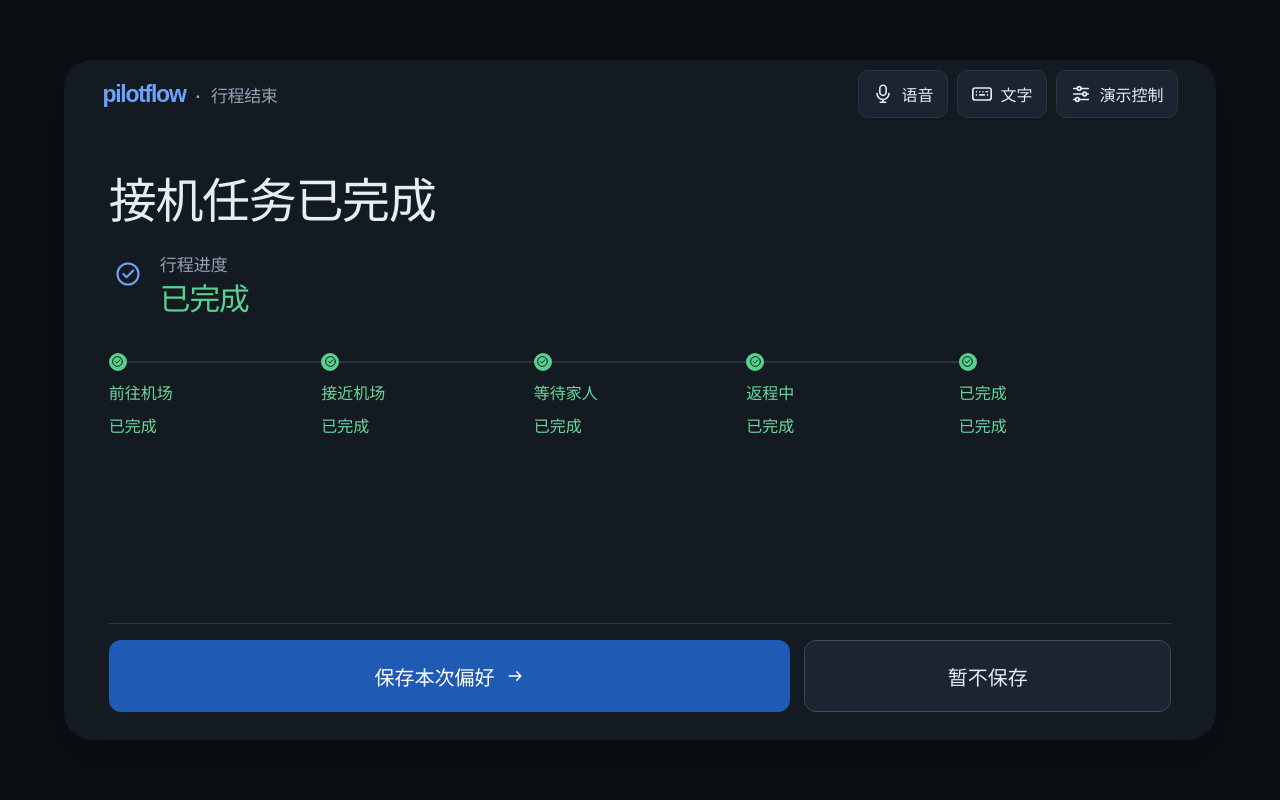
Test: demo integration › offers declining the completion confirmation and clears it too
The image size is (1280, 800).
Step 1. Click the button "暂不保存" → (988,676), box [804,640,1171,712]
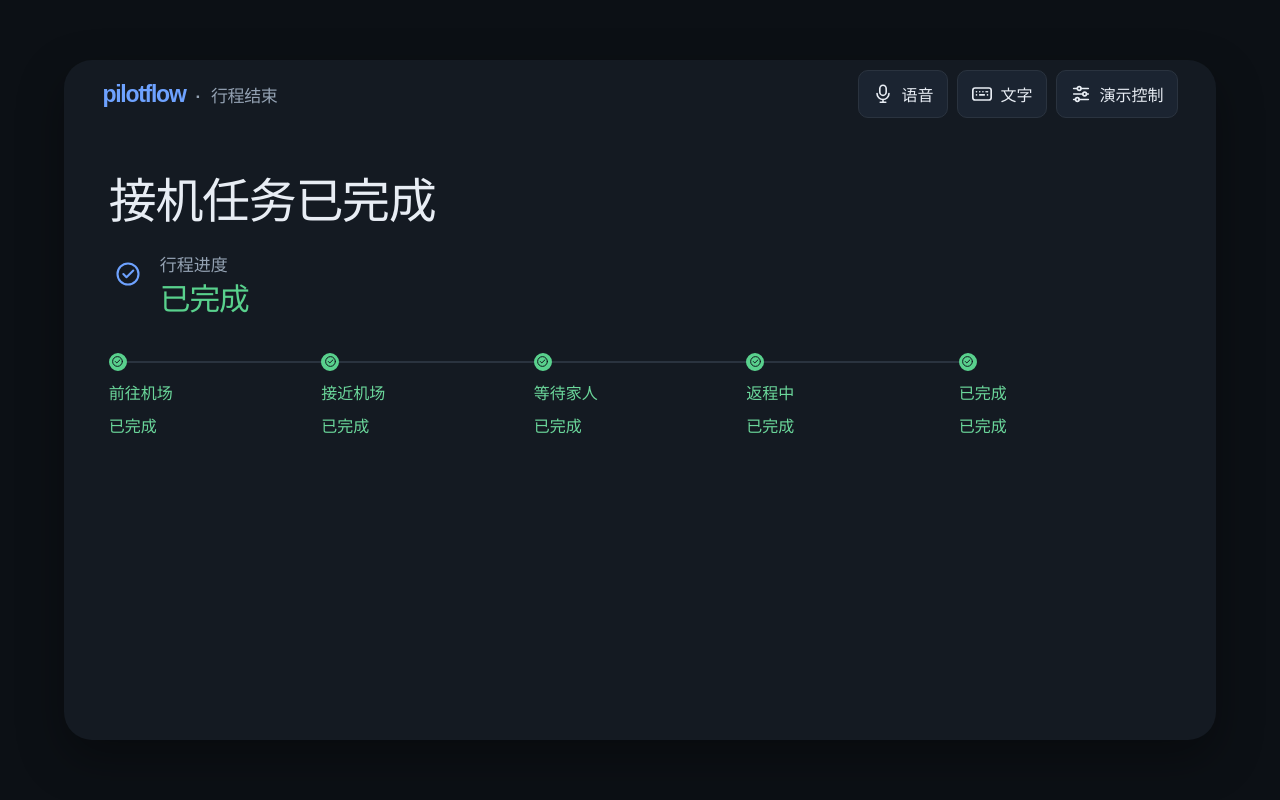
Result: the button "暂不保存" is gone
Result: the button "保存本次偏好" is gone
